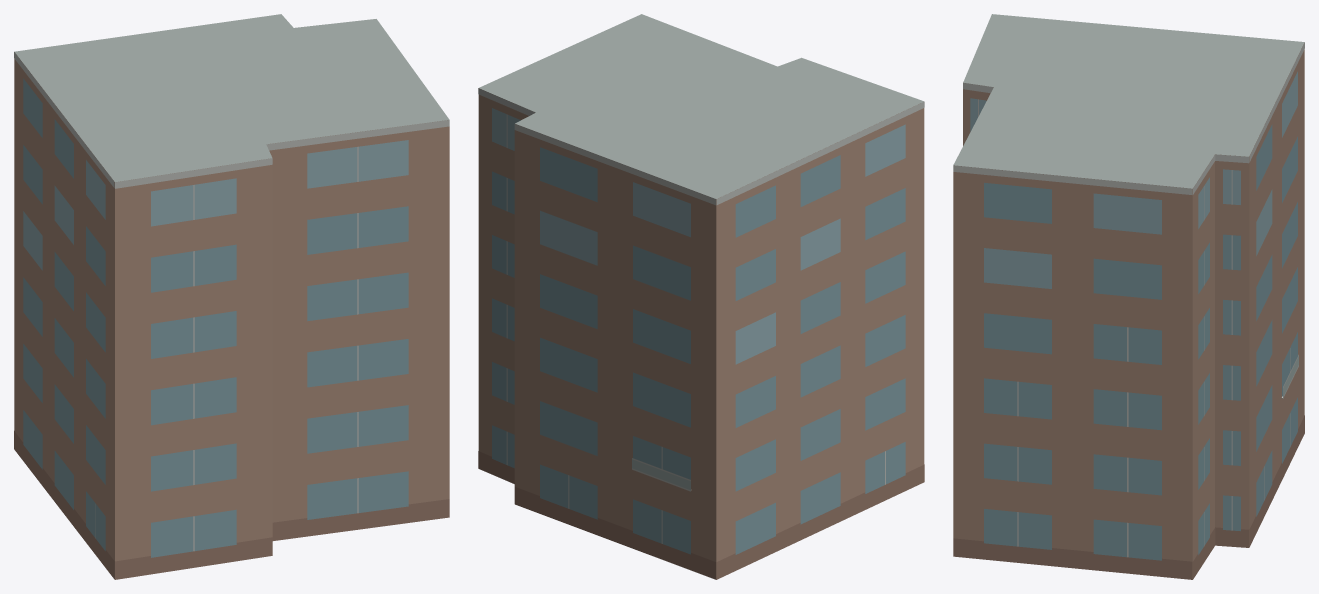
The model's file is survey-upis-32858234.glb.
3 views of the same model, side by side, from view 1: azimuth 30°, elevation 25°; view 2: azimuth 150°, elevation 25°; view 3: azimuth 270°, elevation 25° (orthographic). The views are drawn at different scales.
Parts seen in each view (by area): view 1: survey-upis-32858234.tmp; view 2: survey-upis-32858234.tmp; view 3: survey-upis-32858234.tmp.
Boxes of the visible parts, bbox=[...] form: survey-upis-32858234.tmp: bbox=[14, 14, 449, 579]; survey-upis-32858234.tmp: bbox=[478, 14, 924, 579]; survey-upis-32858234.tmp: bbox=[953, 14, 1304, 579].
Size of the model in its own units: 13.99 by 14.6 by 11.9.
